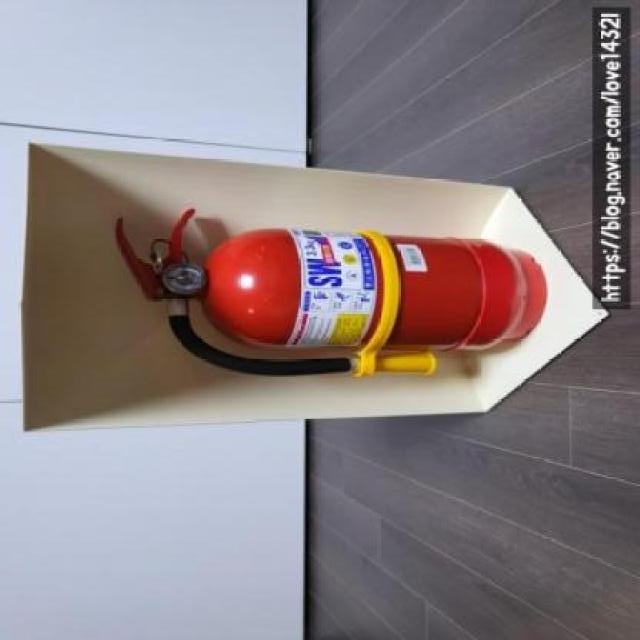fire extinguisher: (114, 207, 548, 376)
